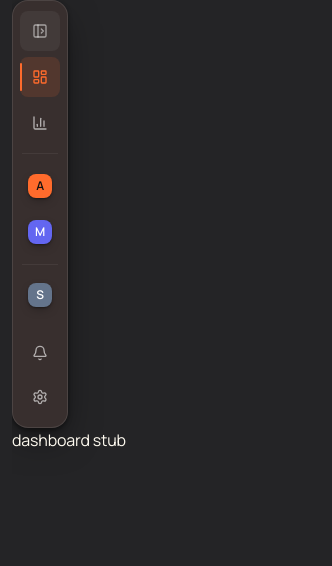
Sidebar minimized rail polish (R101-C) › R131-P: the Scratchpad NEVER rides the project tiles (newest-first world) — a DEDICATED bottom tile after the projects block, its own hairline, outside the cap
The width and height of the screenshot is (332, 566).
Check: the element with test id "rail-projects" is shown, box [20, 164, 60, 254]
Click the button with test id "rail-scratchpad". click: {"x": 40, "y": 295}
box: [20, 275, 60, 315]
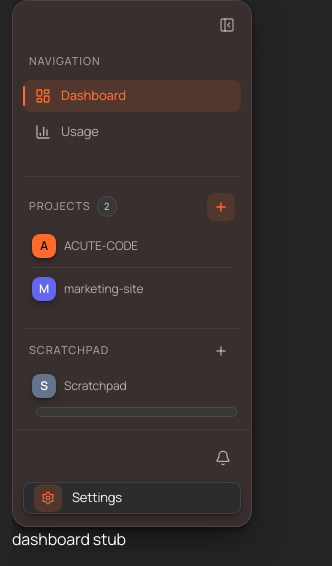
Check: the text "Navigation" is shown, box [29, 53, 100, 70]
Check: the element with test id "sidebar-rail" is gone
Check: the element showing "Scratchpad S Scratchpad" is shown, box [23, 308, 241, 420]
